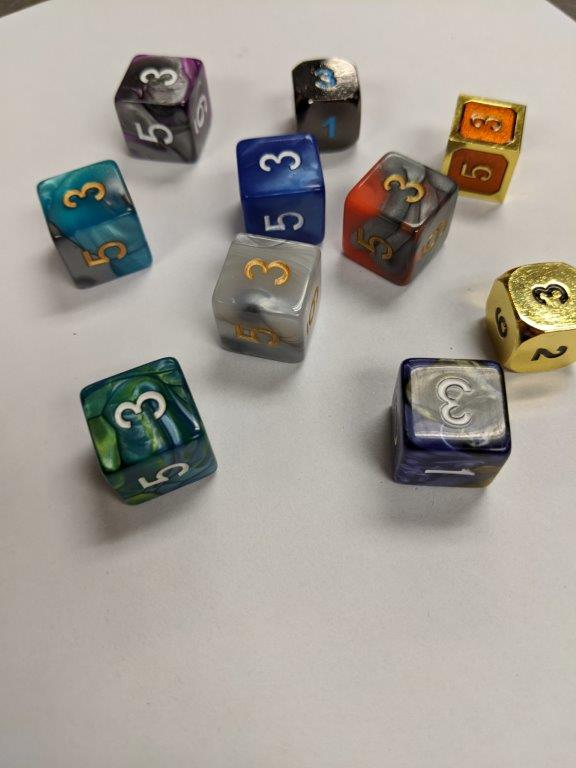d6-3: (79, 355, 219, 505), (392, 357, 511, 494), (37, 158, 153, 295), (214, 227, 323, 368), (340, 151, 456, 281), (114, 51, 214, 163), (233, 135, 328, 248), (440, 91, 529, 205), (491, 263, 576, 372), (290, 57, 361, 152)
